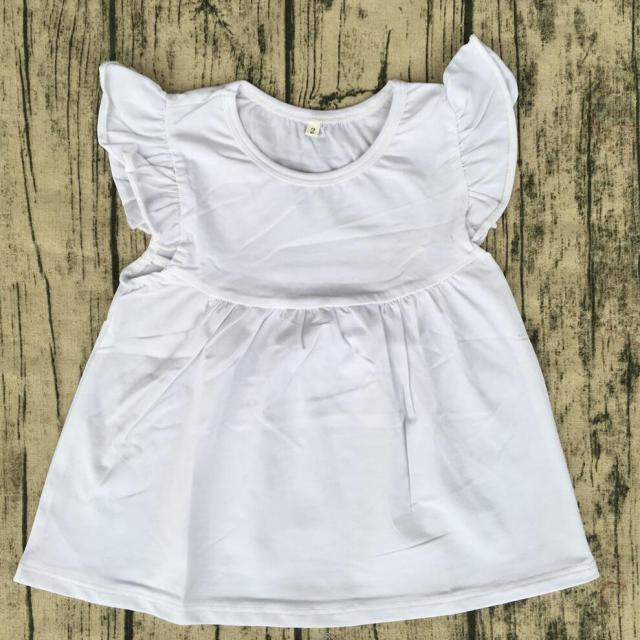Dress: (24, 44, 598, 630)
